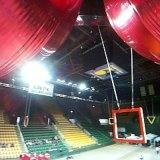Orange_Circle_GShape: (24, 116, 29, 127)
Orange_Square_GShape: (112, 108, 144, 143)
Yellow_Square_GShape: (109, 117, 116, 125)
Yellow_Triangle_Gshape: (146, 115, 156, 125)
